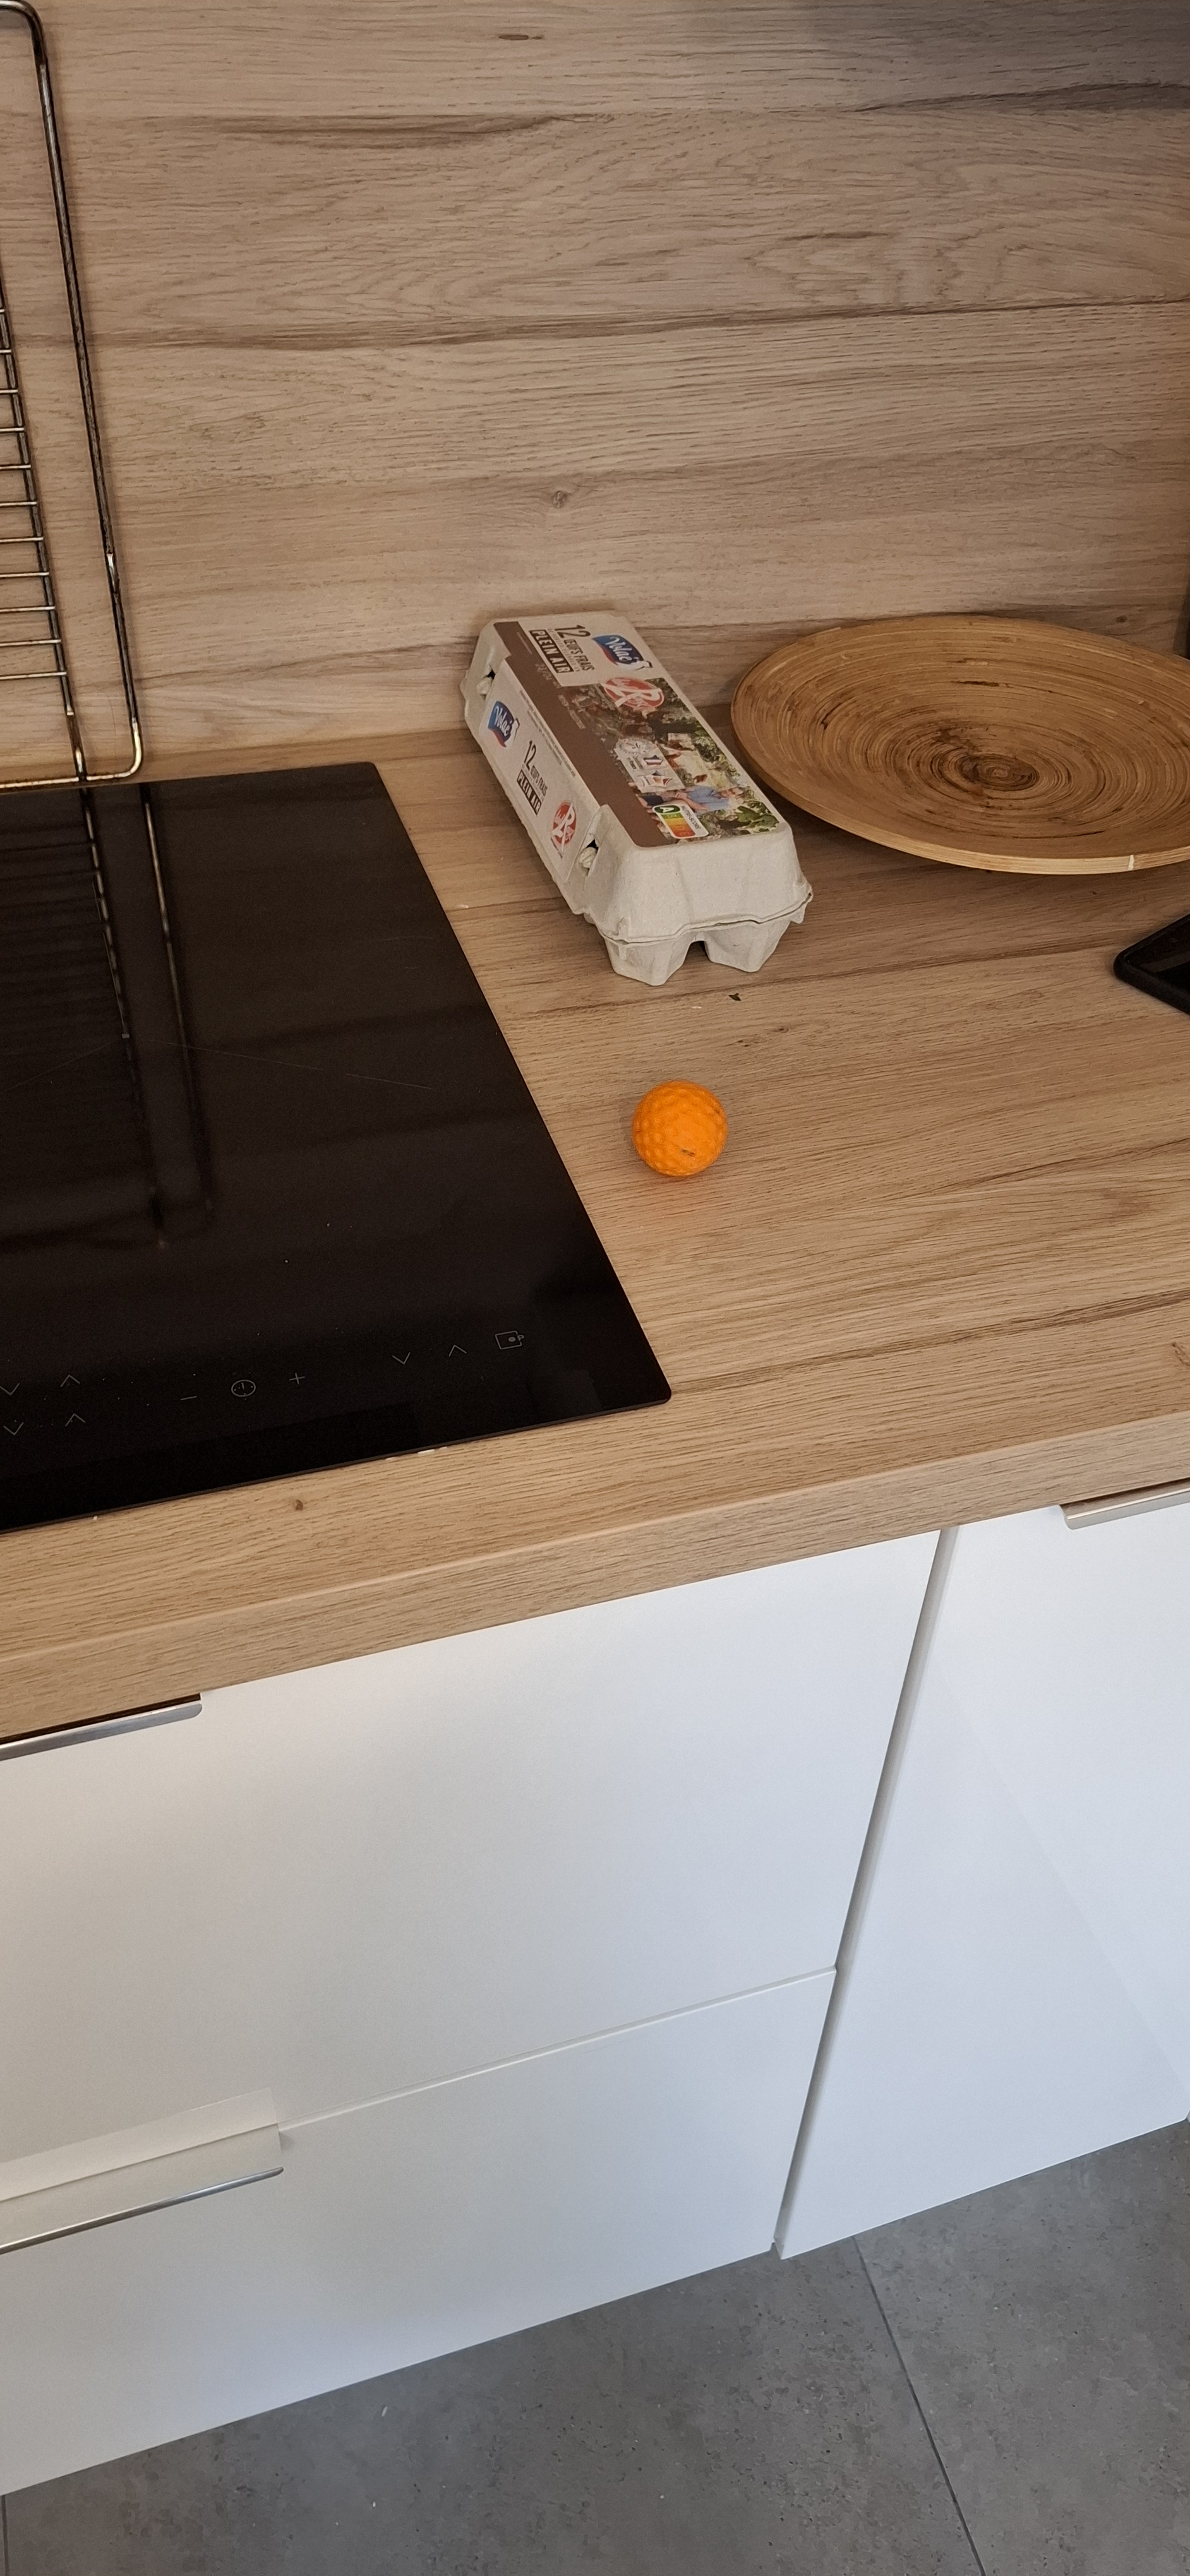ball: (500, 1004, 544, 1209)
